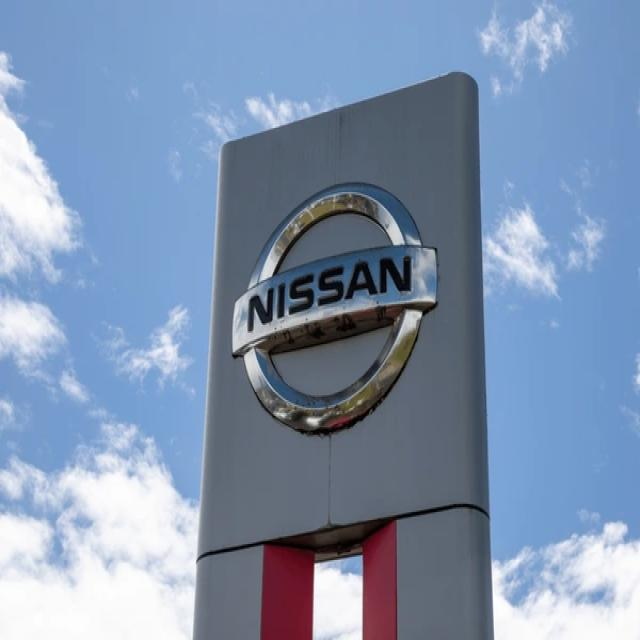nissan: (230, 187, 446, 445)
